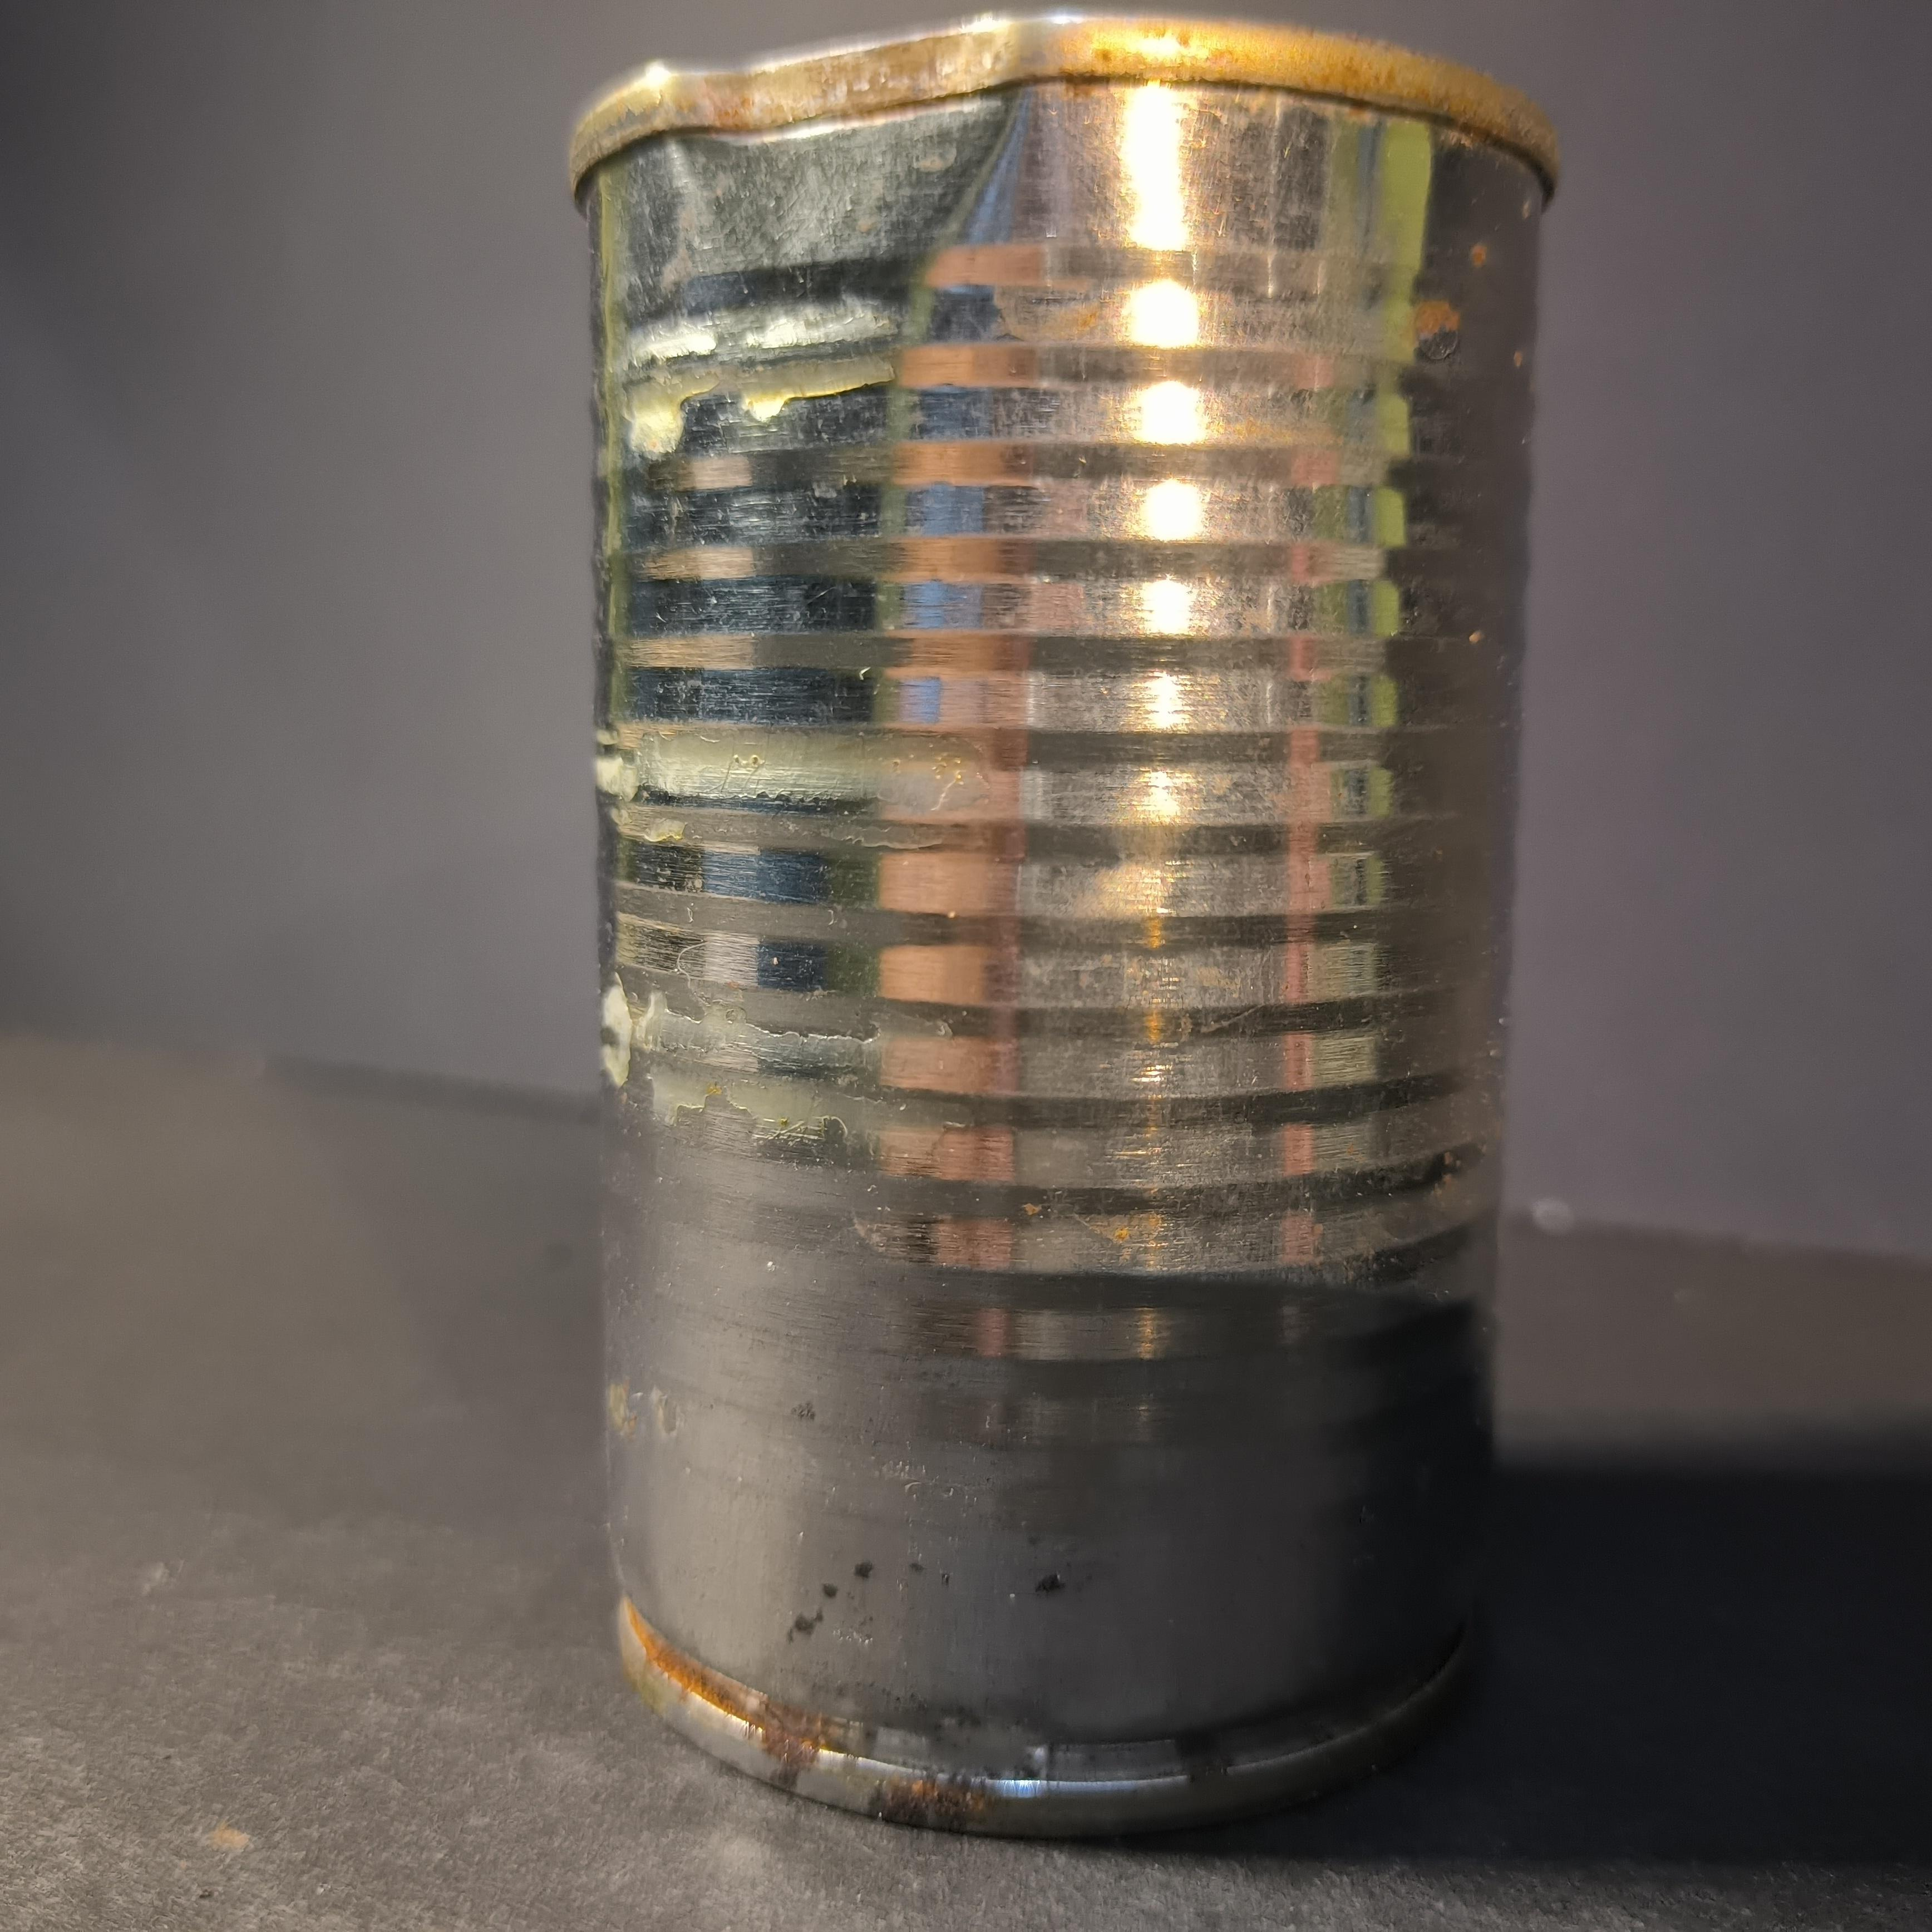Dented: (548, 0, 1583, 1872)
